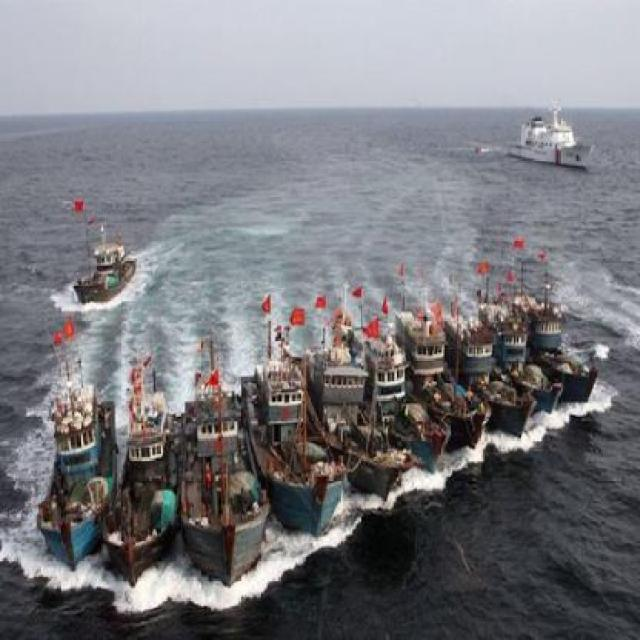fish-b: (243, 303, 352, 550), (175, 336, 275, 590), (103, 354, 187, 583), (311, 321, 409, 507), (352, 304, 453, 483), (45, 366, 126, 574), (399, 307, 496, 461), (444, 301, 538, 447), (516, 276, 604, 405), (492, 301, 567, 421), (66, 215, 147, 324)
